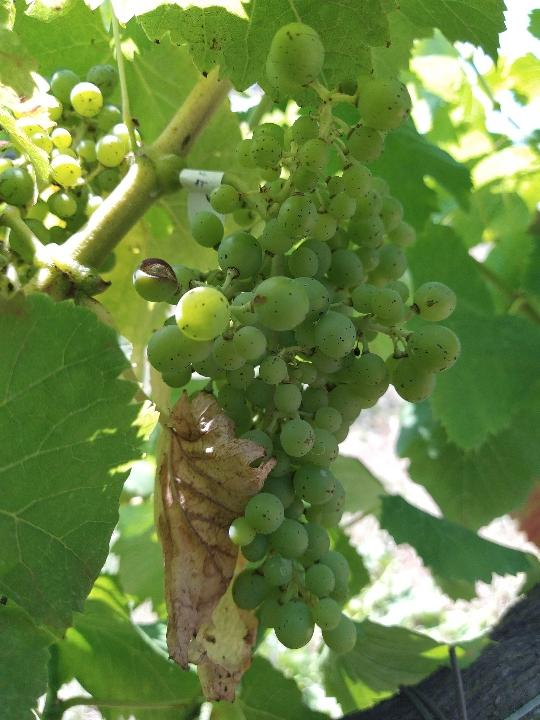grape: (128, 20, 464, 661)
